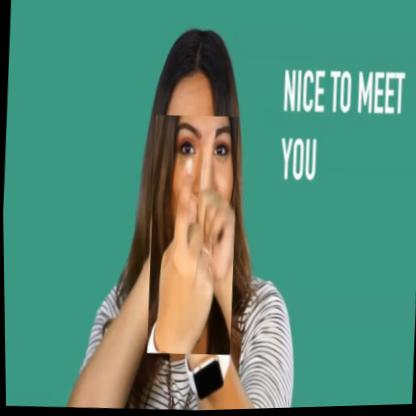NiceToMeetYou: (143, 113, 241, 358)
